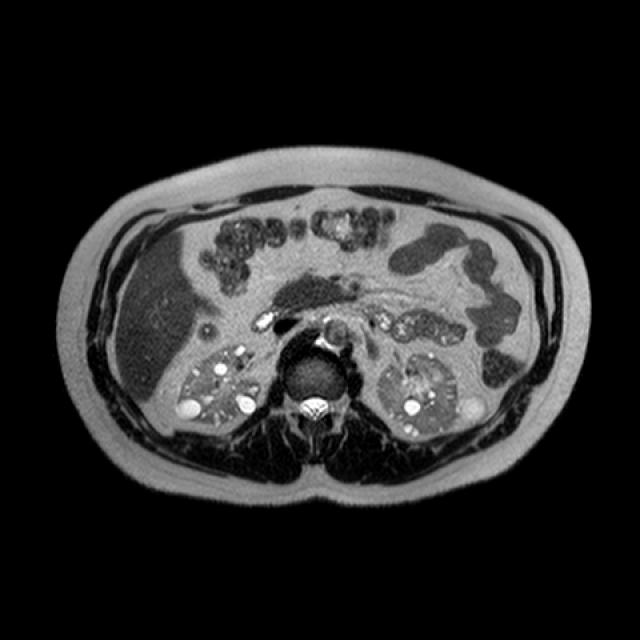sag: (173, 342, 265, 428)
sol: (375, 352, 488, 440)
